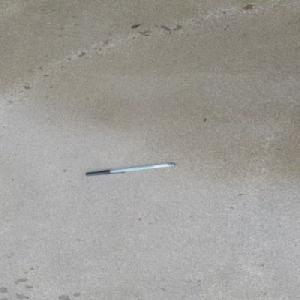Pen: (83, 161, 175, 176)
